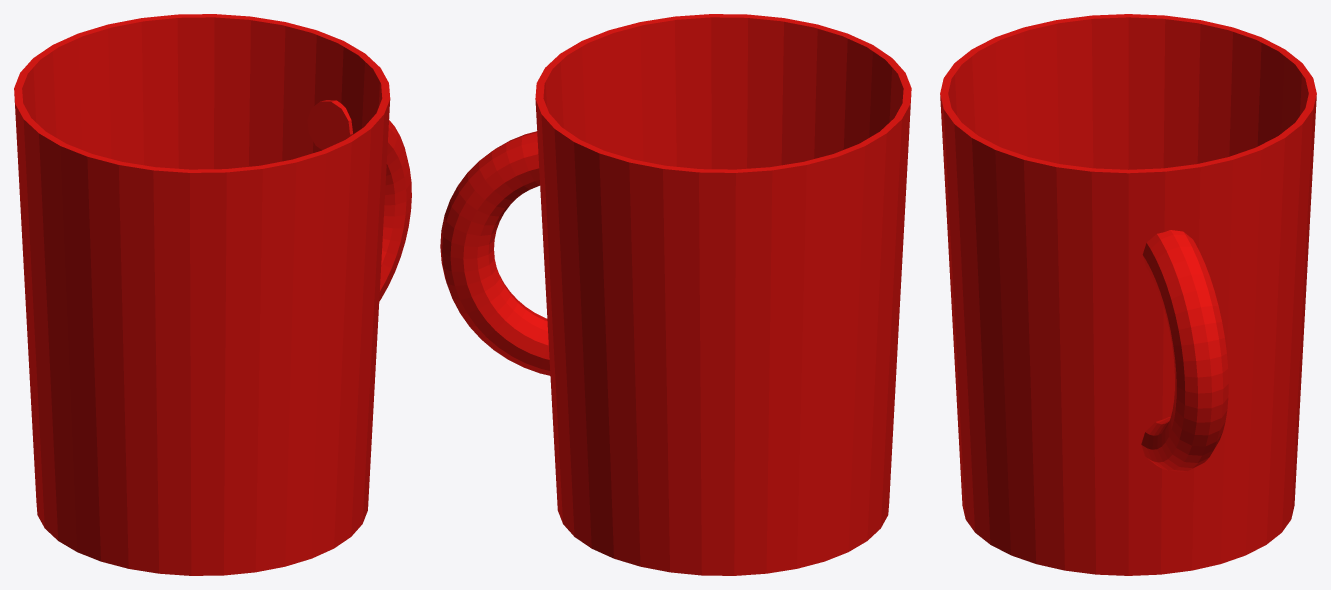
Rendered from Koffiebeker_eetzaal_morgbeka.glb.
3 views of the same model, side by side, from view 1: azimuth 30°, elevation 25°; view 2: azimuth 150°, elevation 25°; view 3: azimuth 270°, elevation 25° (orthographic).
Parts seen in each view (by area): view 1: Cylinder; view 2: Cylinder; view 3: Cylinder.
Boxes of the visible parts, left/top/right/bottom form: Cylinder: left=14, top=14, right=411, bottom=575; Cylinder: left=440, top=14, right=911, bottom=575; Cylinder: left=940, top=14, right=1316, bottom=575.
Bounding box in the file's own units: 0.0323 × 0.0313 × 0.0259.
